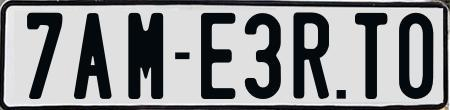0: (397, 11, 435, 99)
3: (242, 11, 280, 99)
7: (26, 11, 64, 99)
A: (72, 13, 113, 101)
E: (198, 12, 234, 100)
M: (126, 13, 162, 100)
R: (293, 10, 332, 103)
T: (354, 10, 391, 101)
